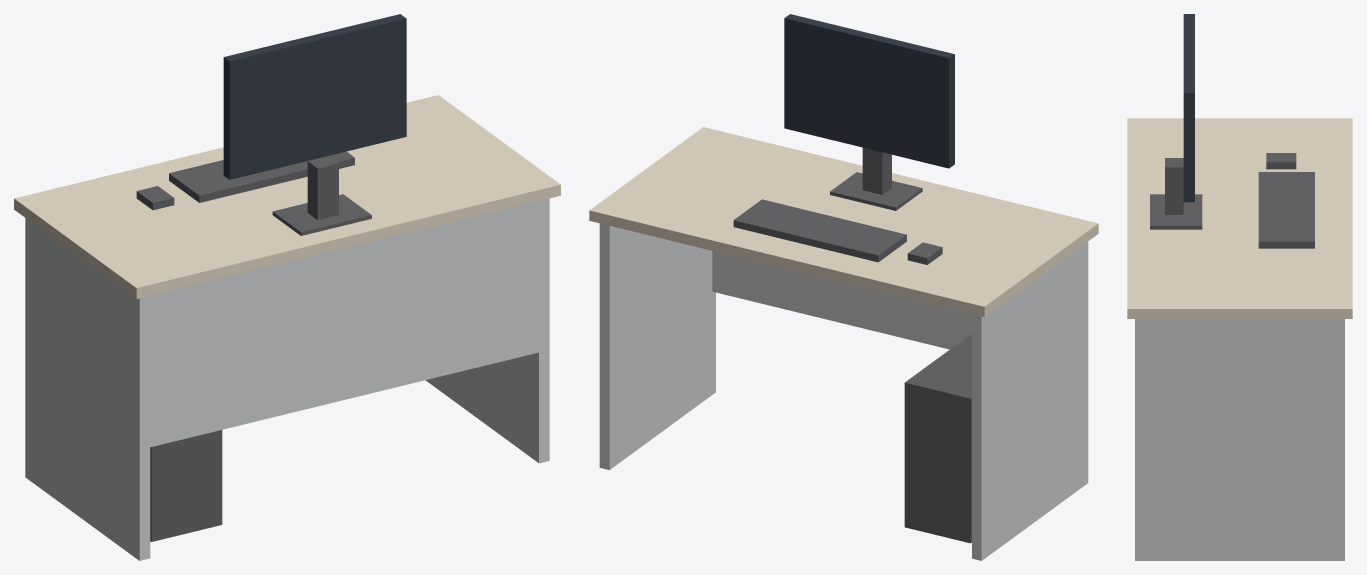
File: Desk_Computer.fbx
The picture shows the model from 3 angles, left to right: view 1: azimuth 30°, elevation 25°; view 2: azimuth 150°, elevation 25°; view 3: azimuth 270°, elevation 25°; orthographic projection. The views are drawn at different scales.
Parts seen in each view (by area): view 1: Desk_Computer; view 2: Desk_Computer; view 3: Desk_Computer.
Part boxes in pixels (bbox=[...]): Desk_Computer: bbox=[14, 14, 560, 560]; Desk_Computer: bbox=[589, 14, 1098, 560]; Desk_Computer: bbox=[1127, 14, 1352, 560].
Size of the model in its own units: 1.2 by 1.22 by 0.6.
